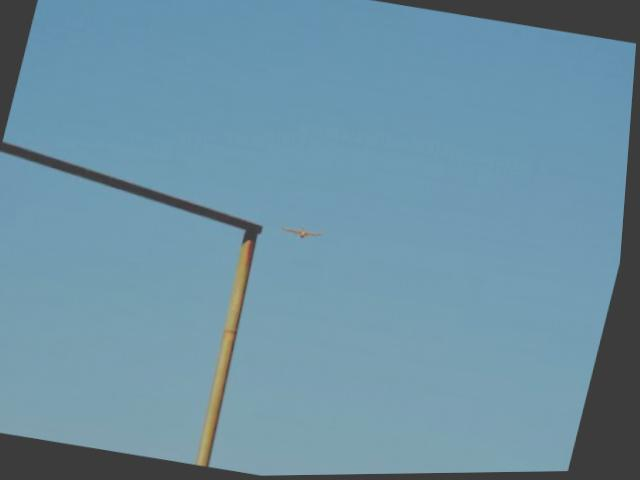iha: (282, 224, 329, 243)
